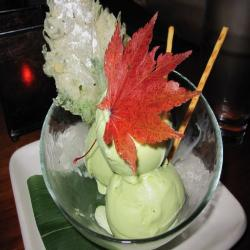icecream: (84, 108, 186, 236)
